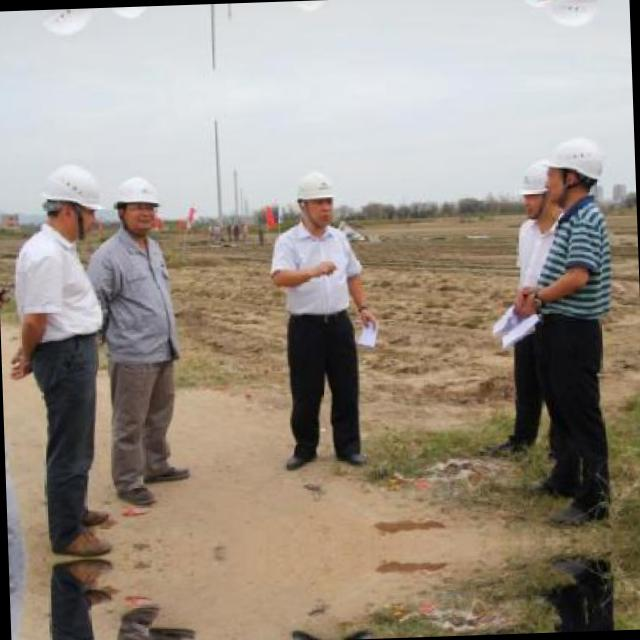helmet: (38, 157, 108, 242), (533, 129, 608, 207), (106, 169, 166, 235), (288, 162, 339, 230), (513, 150, 558, 220), (527, 0, 602, 33), (32, 8, 102, 40), (100, 6, 158, 24), (282, 0, 334, 18), (507, 0, 552, 15)
